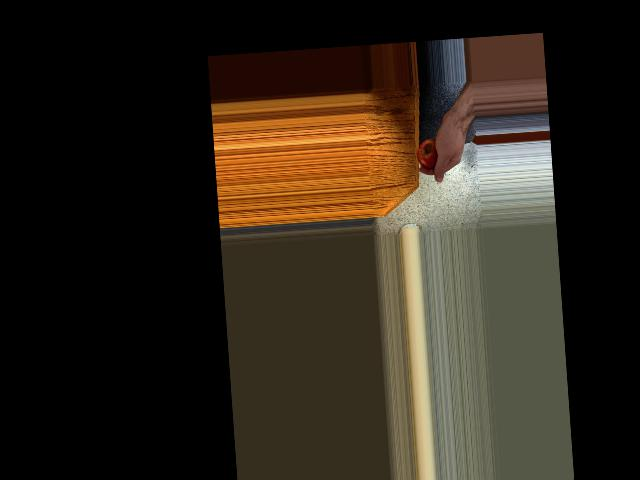apple: (416, 136, 446, 168)
